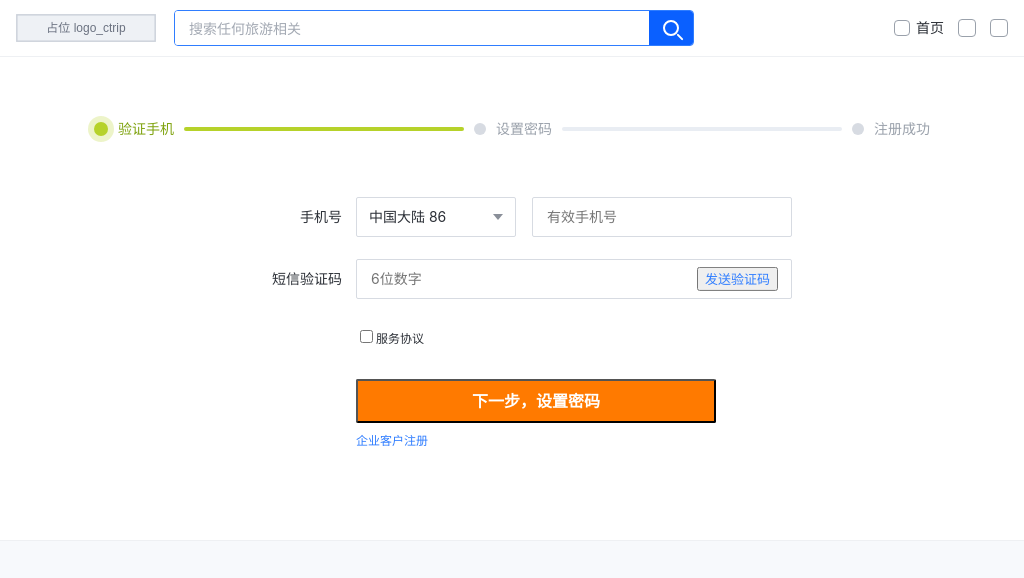
Test: 注册模块 - 步骤1 场景用例 › Scenario: 2.1.6 用户输入不合法的手机号
Type "123" into the field with placeholder "有效手机号" at (662, 217), box [532, 197, 792, 237]
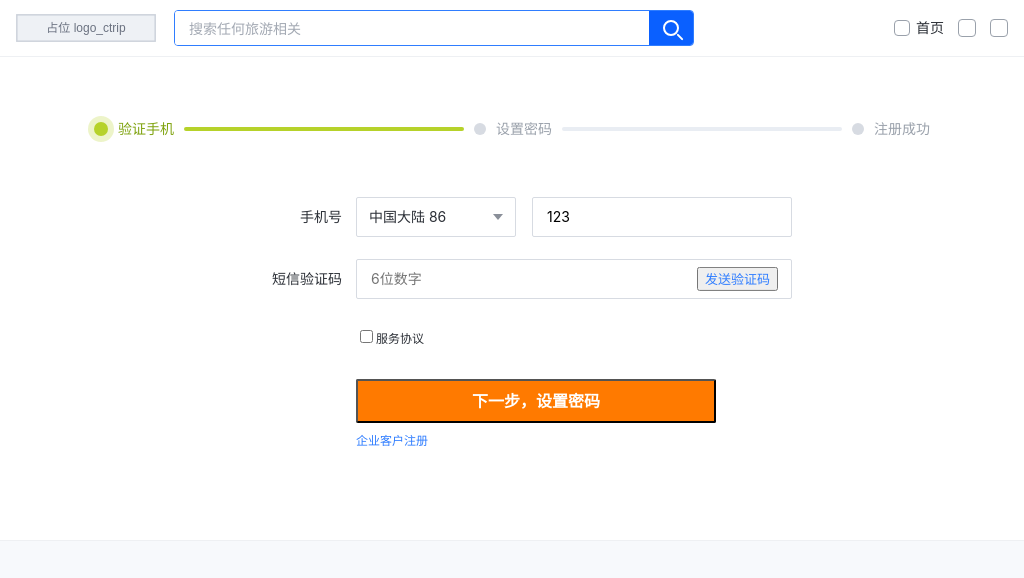
Click the button "发送验证码" at (738, 279), box [697, 266, 778, 291]
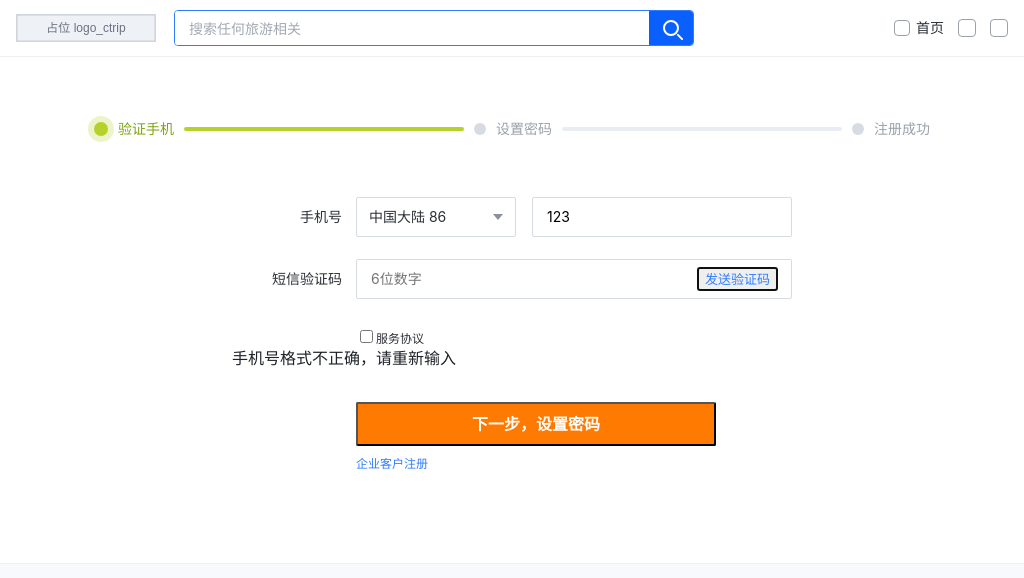
Now the text "手机号格式不正确，请重新输入" is shown, box [232, 348, 456, 368]
